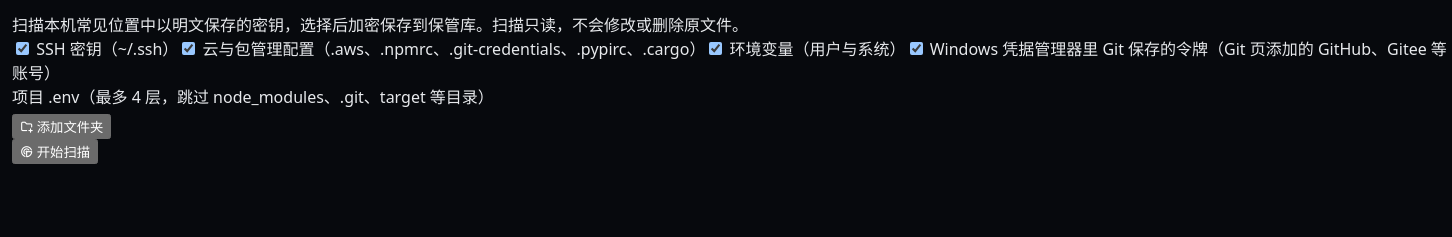
Scenario: DiscoverPanel project folders › re-reads settings before saving and sends the fresh auto-lock minutes
The width and height of the screenshot is (1452, 237).
Click the button "添加文件夹".
click(62, 126)  # box x1=12 y1=114 x2=111 y2=139
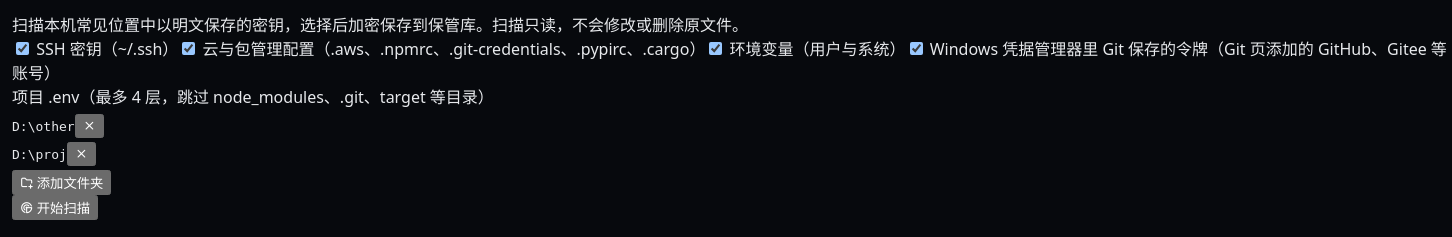
Expected: the text "D:\\proj" is shown, x1=12 y1=147 x2=67 y2=162
